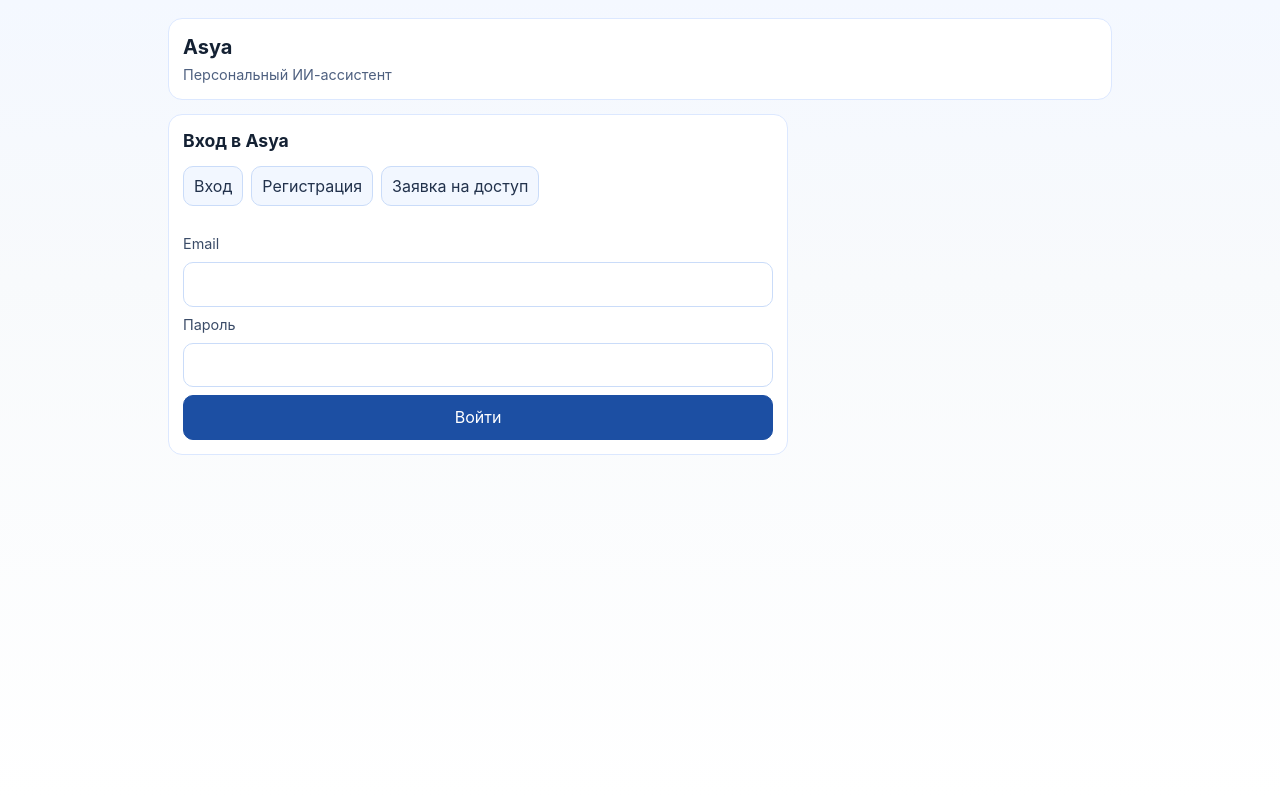
Test: App routing › показывает auth-экран без сессии и логинит пользователя
Expected: the heading "Вход в Asya" is shown, [183,130,289,151]
Type "user@example.com" into the field labelled "Email" at (478, 284), box [183,262,773,307]
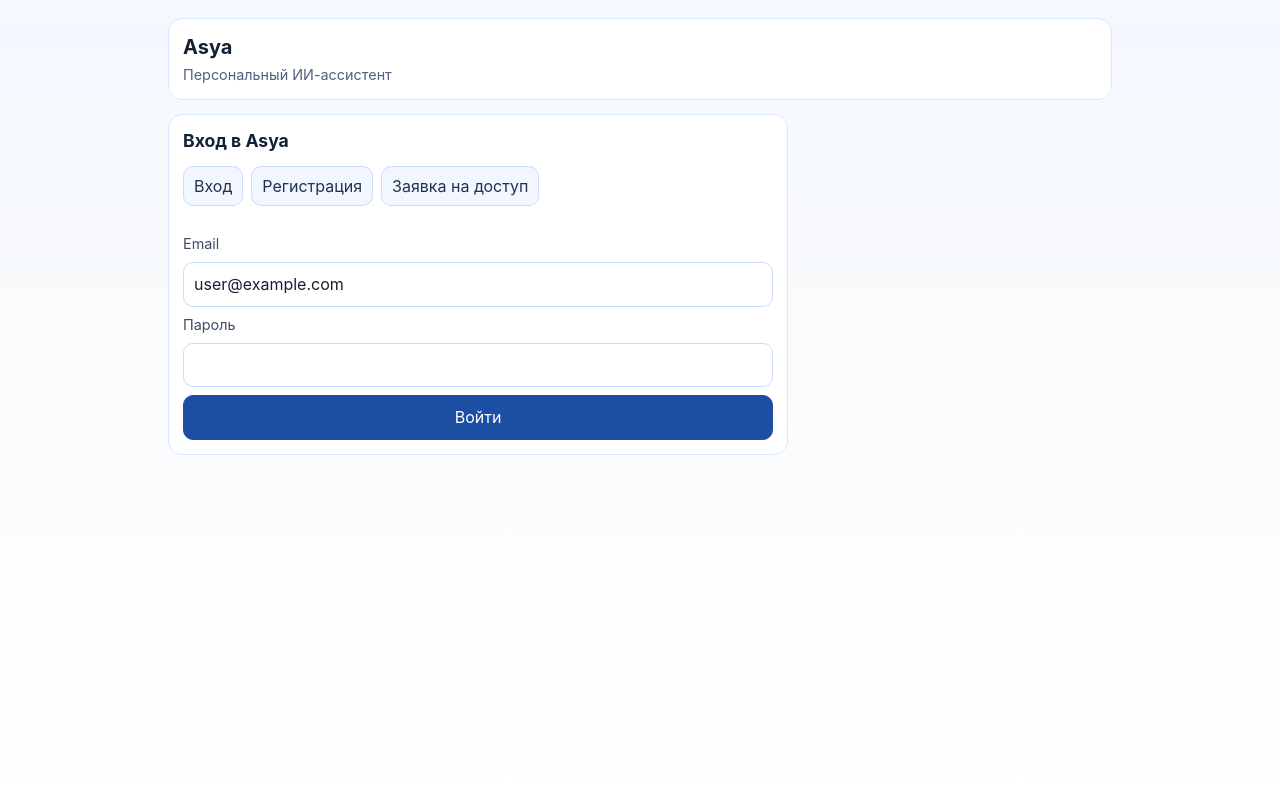
Type "strong-pass-123" into the password field labelled "Пароль" at (478, 365), box [183,343,773,387]
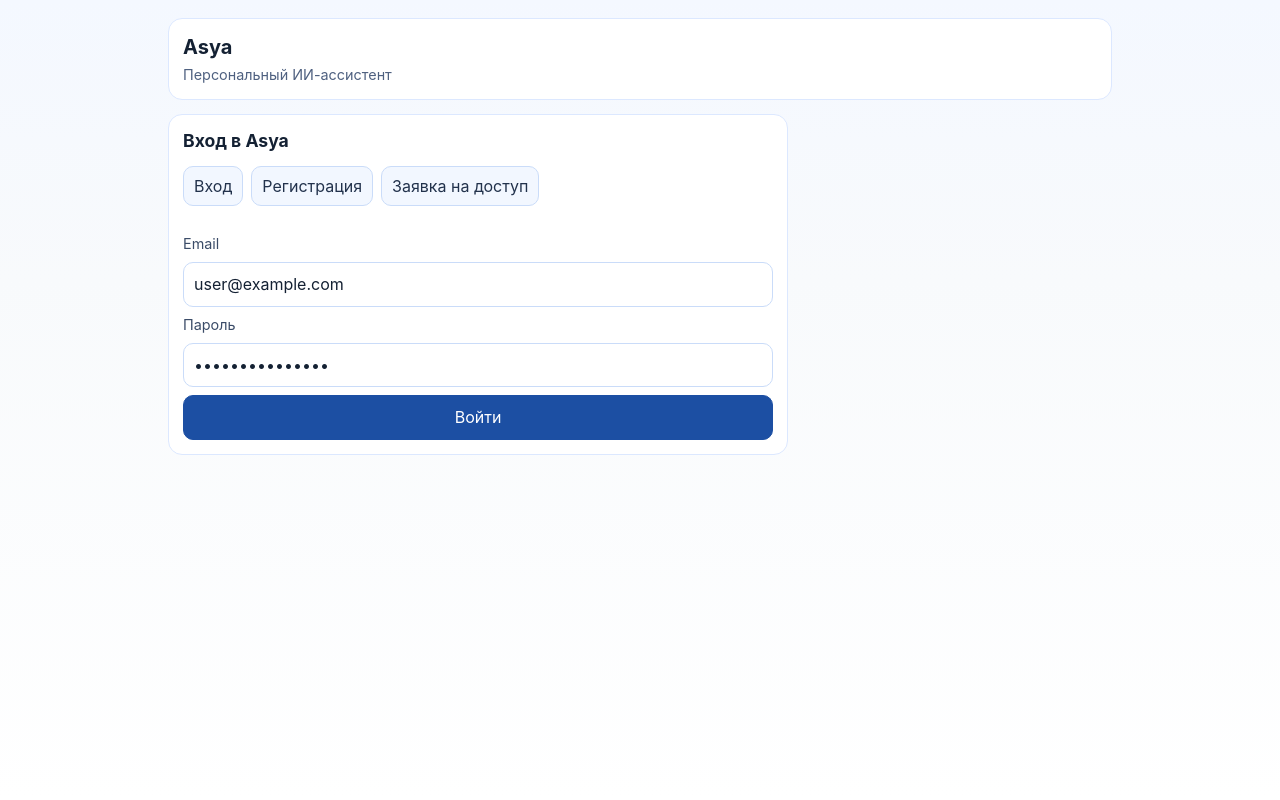
Click the button "Войти" at (478, 418), box [183,395,773,440]
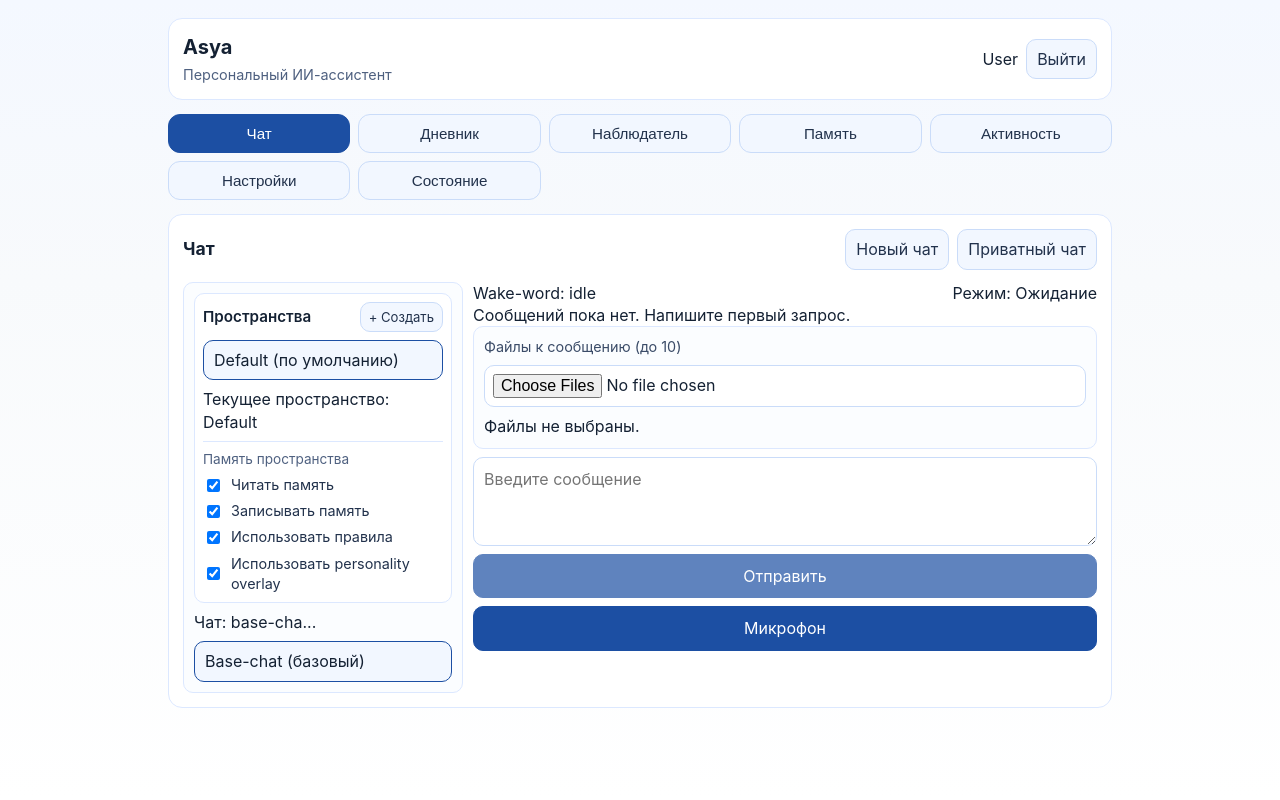
Expected: the heading "Чат" is shown, [183,237,215,262]
